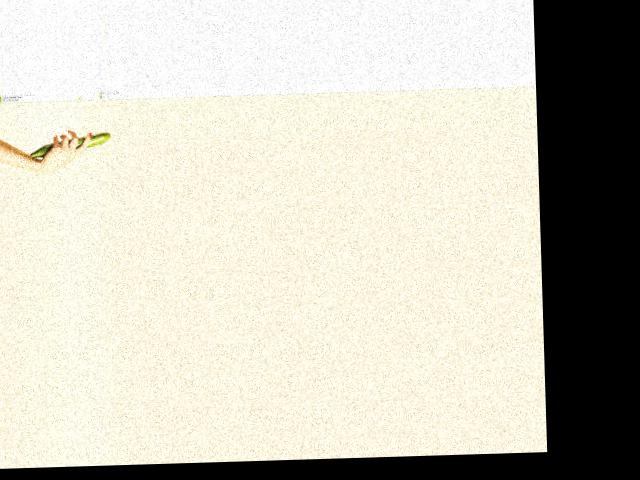cucumber: (28, 131, 111, 157)
